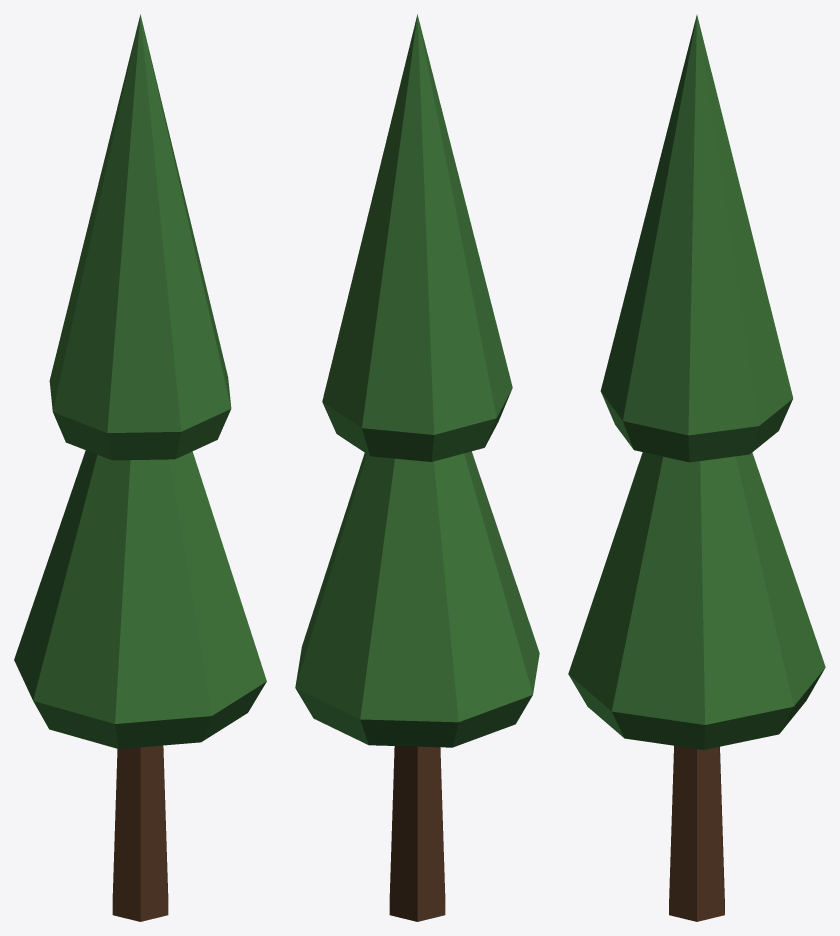
The model's file is tree_pineTallA.glb.
The picture shows the model from 3 angles, left to right: view 1: azimuth 30°, elevation 25°; view 2: azimuth 150°, elevation 25°; view 3: azimuth 270°, elevation 25°; orthographic projection.
Visible parts, largest first — view 1: tree_pineTallA; view 2: tree_pineTallA; view 3: tree_pineTallA.
Boxes of the visible parts, x1,y1,x2,y2 form: tree_pineTallA: (14, 14, 266, 921); tree_pineTallA: (295, 14, 539, 921); tree_pineTallA: (568, 15, 825, 921).
Size of the model in its own units: 0.3992 by 1.53 by 0.3992.
1 material, 1 textured.
